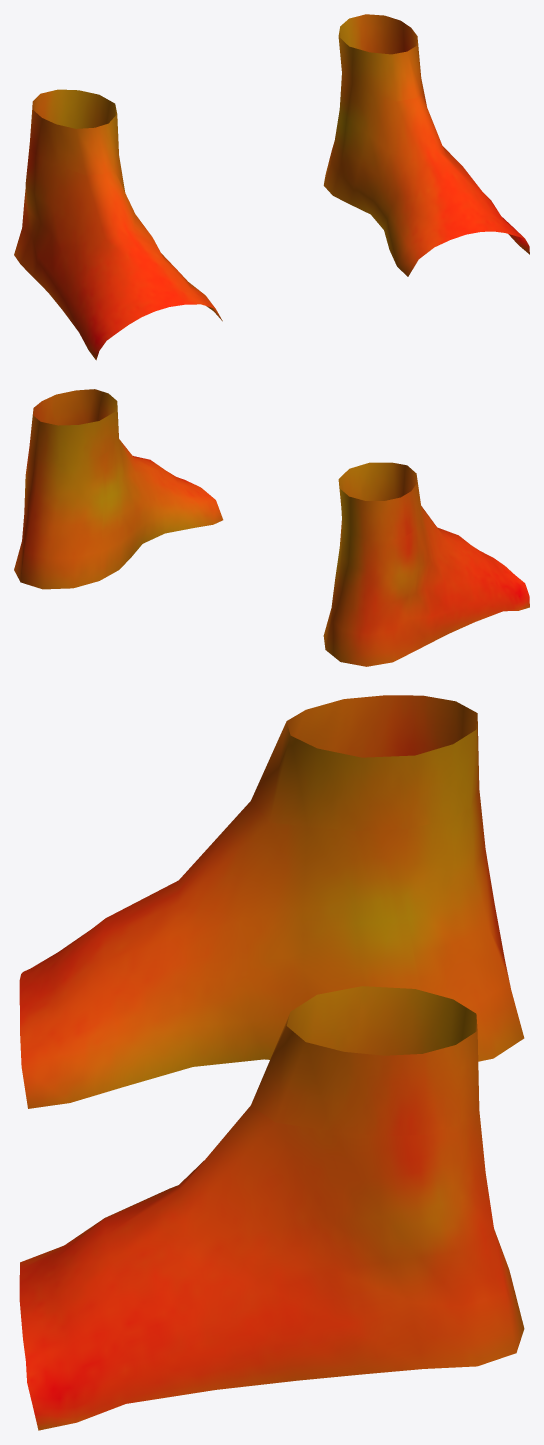
The model's file is ankles.obj.
3 views of the same model, one above another, from view 1: azimuth 30°, elevation 25°; view 2: azimuth 150°, elevation 25°; view 3: azimuth 270°, elevation 25° (orthographic). The views are drawn at different scales.
Parts seen in each view (by area): view 1: ankles_0; view 2: ankles_0; view 3: ankles_0.
Part boxes in pixels (box(x1,y1,x2,y2)): ankles_0: box(14, 14, 529, 360); ankles_0: box(14, 389, 529, 666); ankles_0: box(19, 695, 524, 1430).
Bounding box in the file's own units: 0.3171 × 0.1214 × 0.1598.
Materials: 1 (1 with a texture image).
